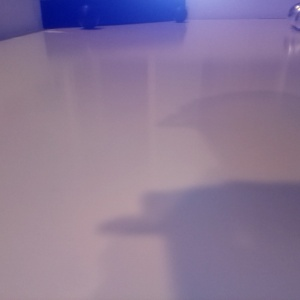alive_ball: (144, 25, 225, 111), (204, 28, 247, 77)
